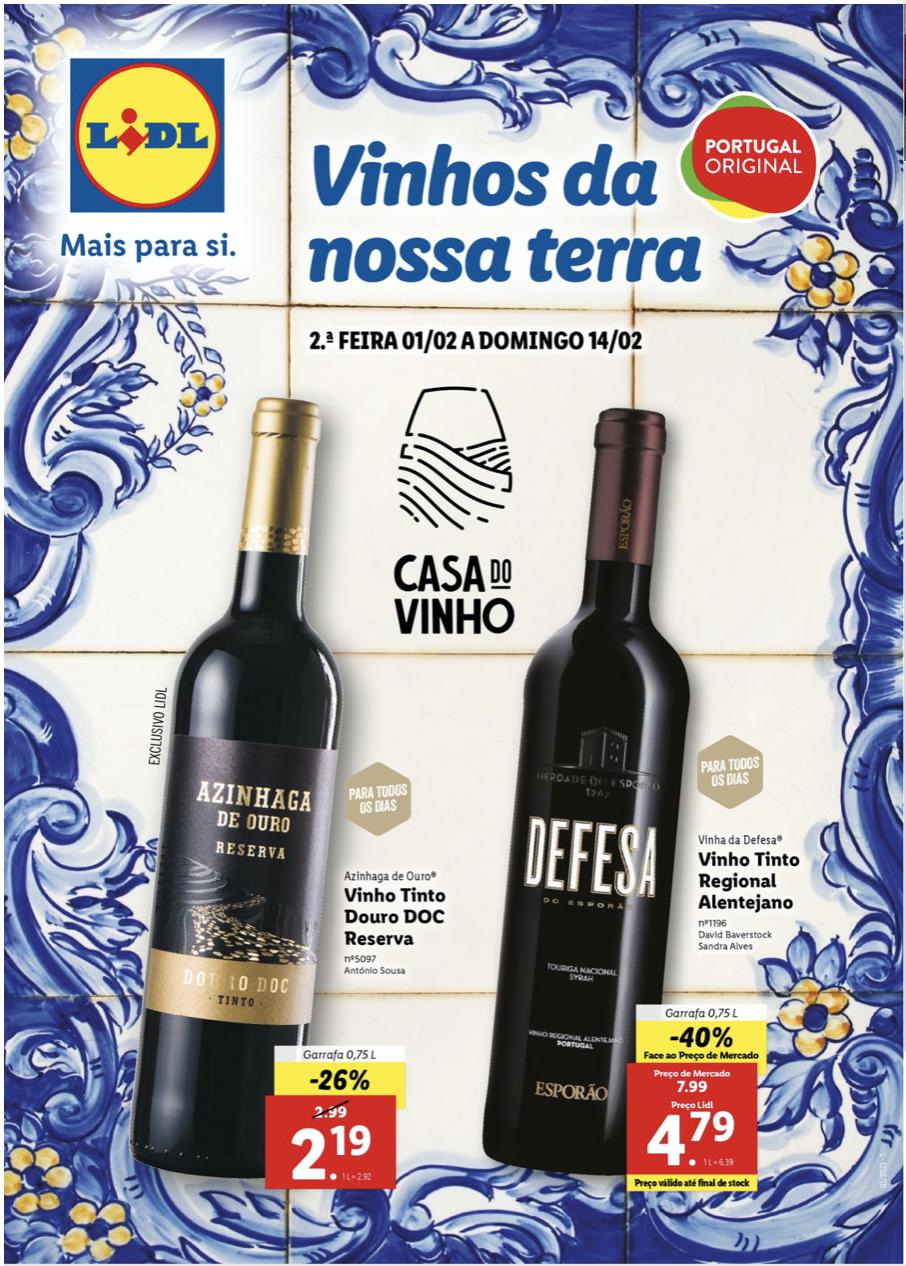name: (695, 844, 799, 913), (340, 884, 451, 948)
price: (634, 1101, 742, 1171), (287, 1126, 385, 1185)
product: (459, 379, 846, 1194), (121, 388, 459, 1196)
promotion: (663, 1021, 742, 1054), (307, 1065, 378, 1099)
